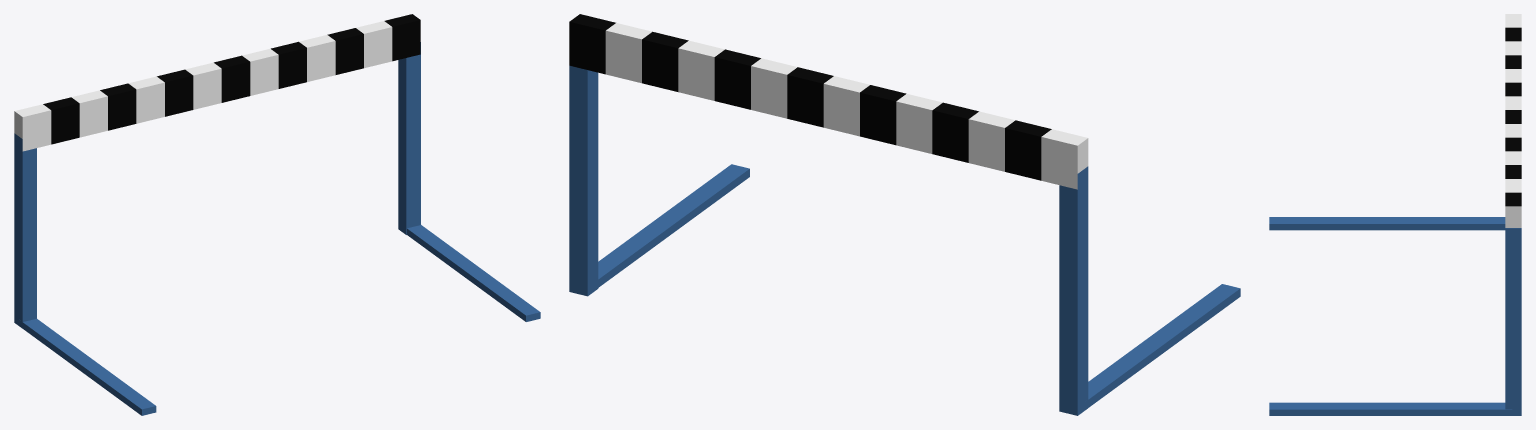
File: bara.fbx
3 views of the same model, side by side, from view 1: azimuth 30°, elevation 25°; view 2: azimuth 150°, elevation 25°; view 3: azimuth 270°, elevation 25° (orthographic). The views are drawn at different scales.
Parts seen in each view (by area): view 1: bara; view 2: bara; view 3: bara.
Boxes of the visible parts, x1,y1,x2,y2 form: bara: (14,14,540,415); bara: (569,14,1240,415); bara: (1269,14,1521,415).
Bounding box in the file's own units: 200 × 102 × 111.
